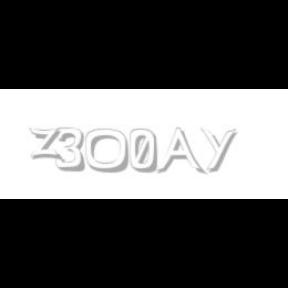0: (130, 128, 160, 174)
3: (56, 128, 86, 172)
A: (155, 128, 203, 176)
O: (84, 128, 130, 174)
y: (200, 128, 240, 172)
z: (29, 128, 65, 160)
